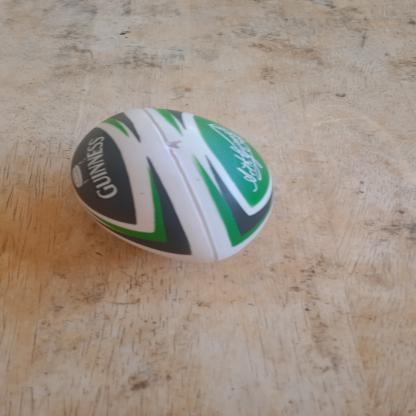Rugby: (66, 103, 285, 266)
